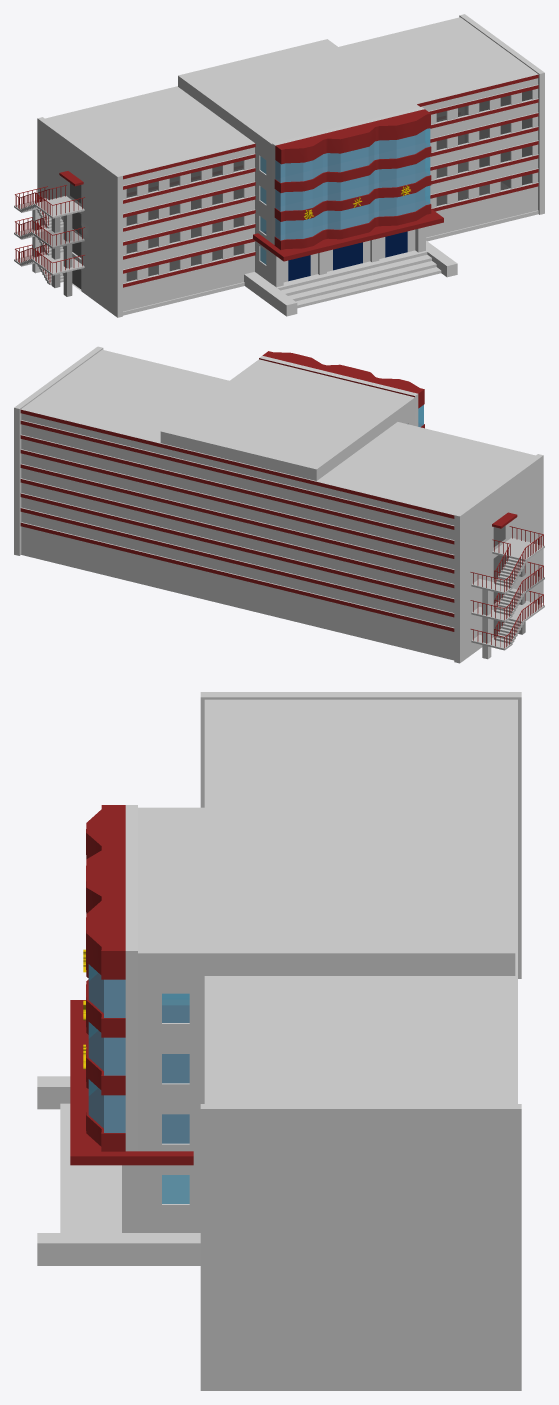
The model's file is zhenxinglou.fbx.
The picture shows the model from 3 angles, top to bottom: view 1: azimuth 30°, elevation 25°; view 2: azimuth 150°, elevation 25°; view 3: azimuth 270°, elevation 25°; orthographic projection. The views are drawn at different scales.
Parts seen in each view (by area): view 1: pCube1, pCube4, pCube2, pCube5, pCube3, pCube6, pCube66, pCube69, pCube7, pCube67, pCube68, pCube65; view 2: pCube1, pCube2, pCube4, pCube69, pCube64; view 3: pCube1, pCube2, pCube4, pCube7, pCube5, pCube3, pCube6.
Boxes of the visible parts, x1,y1,x2,y2 form: pCube1: [37, 14, 544, 317]; pCube4: [272, 107, 431, 249]; pCube2: [254, 95, 425, 287]; pCube5: [271, 250, 441, 308]; pCube3: [253, 209, 443, 261]; pCube6: [244, 272, 297, 316]; pCube66: [63, 214, 72, 296]; pCube69: [34, 196, 84, 218]; pCube7: [426, 240, 457, 277]; pCube67: [34, 253, 84, 275]; pCube68: [34, 226, 84, 248]; pCube65: [51, 217, 60, 287]; pCube1: [14, 346, 543, 663]; pCube2: [241, 359, 415, 425]; pCube4: [259, 351, 424, 428]; pCube69: [492, 537, 544, 561]; pCube64: [482, 589, 491, 659]; pCube1: [200, 692, 521, 1390]; pCube2: [122, 807, 208, 1232]; pCube4: [86, 805, 137, 1151]; pCube7: [37, 1233, 200, 1265]; pCube5: [60, 1103, 134, 1235]; pCube3: [70, 1000, 193, 1165]; pCube6: [37, 1076, 70, 1109].
Bounding box in the file's own units: 86.22 × 27.22 × 39.24.
